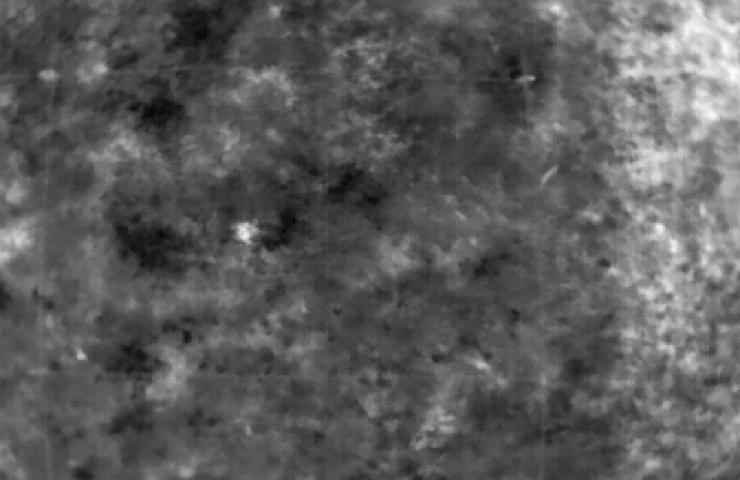landmines: (231, 218, 265, 245)
